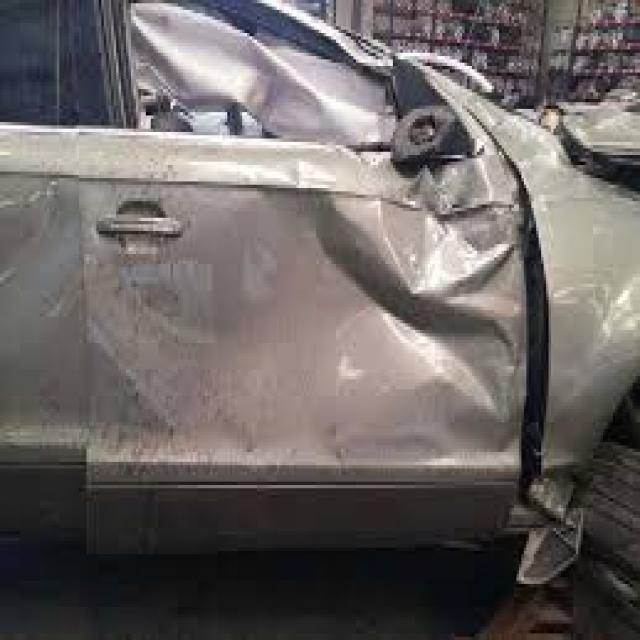damaged-door: (86, 1, 535, 548)
